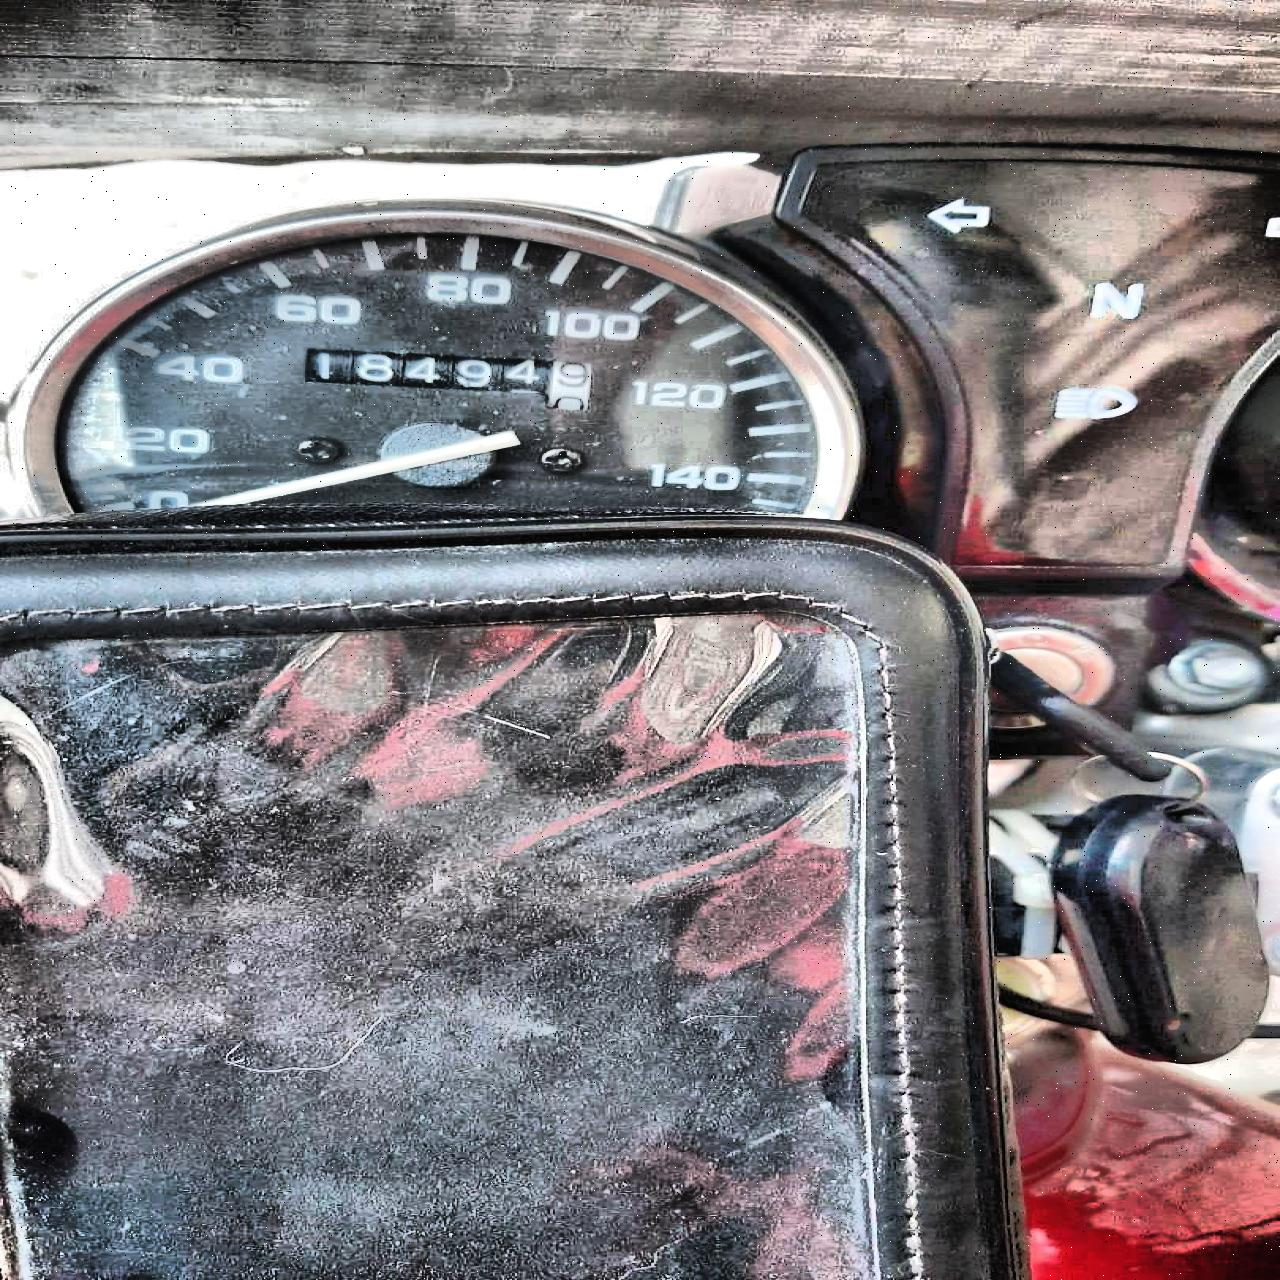1: (309, 349, 341, 383)
4: (403, 352, 445, 386), (503, 355, 543, 384)
8: (354, 354, 390, 381)
9: (545, 359, 591, 388), (452, 358, 493, 388)
odometer: (301, 343, 604, 410)
